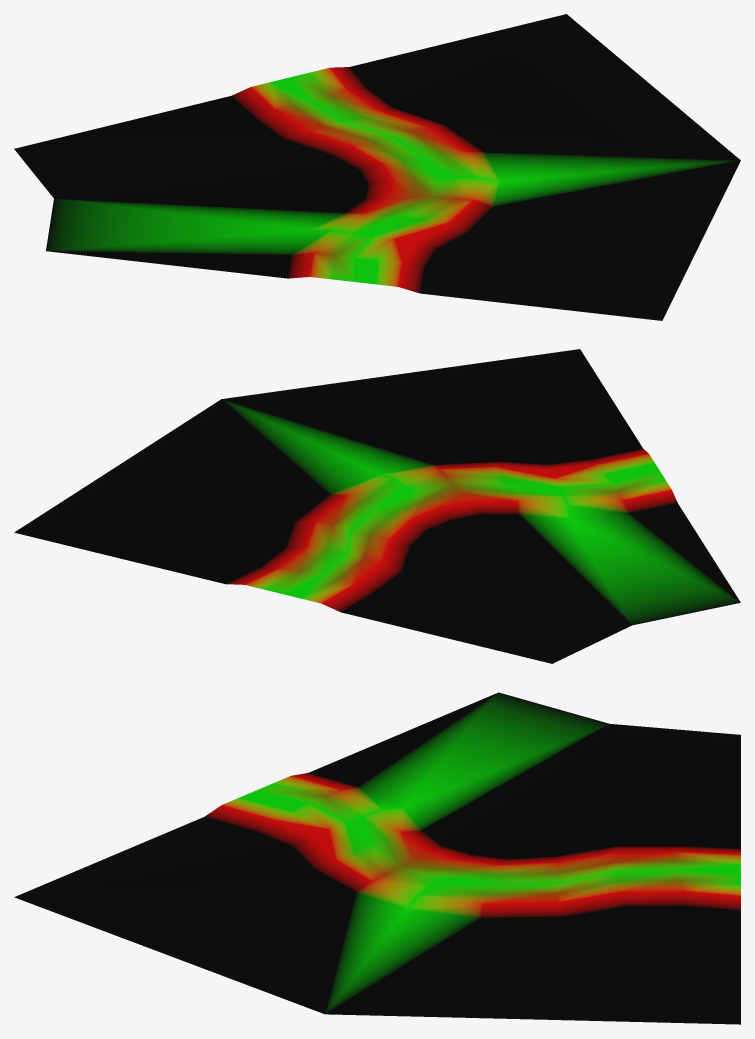
File: Section_WayBend45Angle01_Steppe_RuinVillage_Terrain.fbx
3 renders of one model, top to bottom at view 1: azimuth 30°, elevation 25°; view 2: azimuth 150°, elevation 25°; view 3: azimuth 270°, elevation 25°, orthographic. The views are drawn at different scales.
Visible parts, largest first — view 1: Section_WayBend45Angle01_Steppe_RuinVillage_Terrain; view 2: Section_WayBend45Angle01_Steppe_RuinVillage_Terrain; view 3: Section_WayBend45Angle01_Steppe_RuinVillage_Terrain.
Part boxes in pixels (x1,y1,x2,y2): Section_WayBend45Angle01_Steppe_RuinVillage_Terrain: (14,14,740,320); Section_WayBend45Angle01_Steppe_RuinVillage_Terrain: (14,349,740,663); Section_WayBend45Angle01_Steppe_RuinVillage_Terrain: (14,692,740,1024).
Bounding box in the file's own units: 8025 × 51.45 × 7425.
